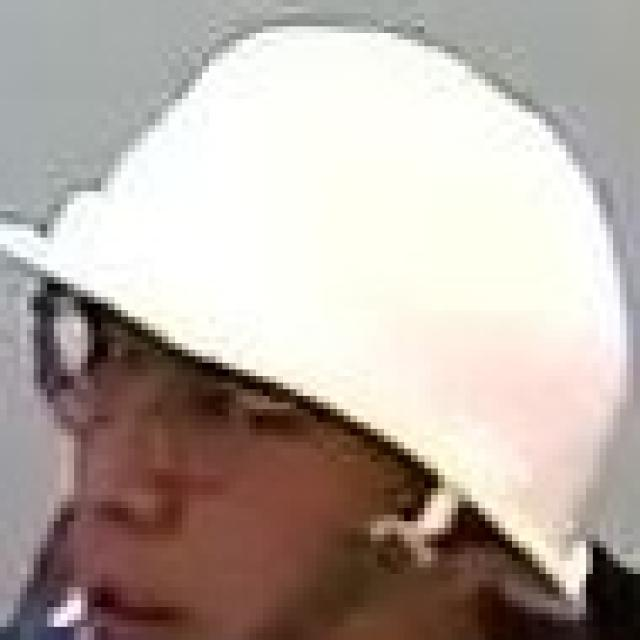helmet_white: (3, 3, 637, 637)
